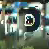Parking: (13, 4, 46, 45)
